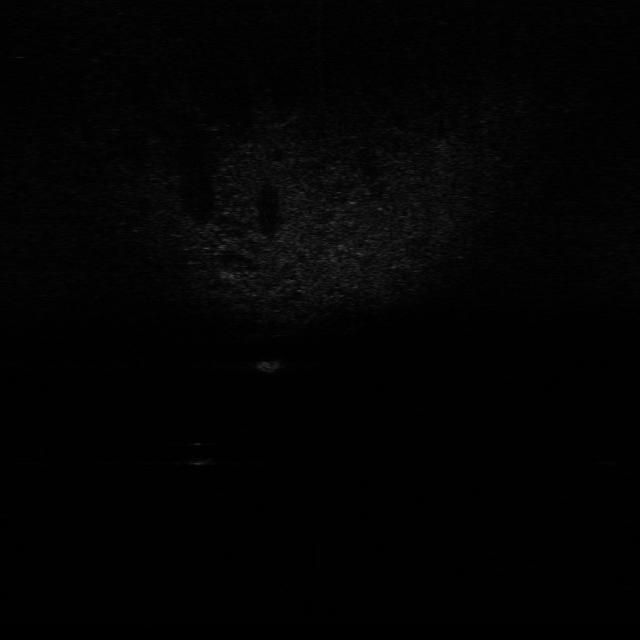ball: (178, 442, 217, 468)
cube: (257, 357, 283, 375)
